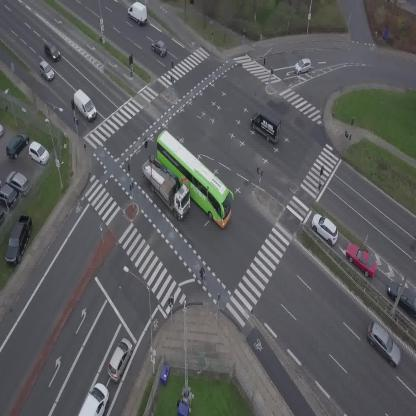bicycle: (195, 267, 211, 287)
bus: (143, 125, 245, 230)
car: (360, 320, 409, 370), (341, 238, 383, 282), (103, 336, 137, 384), (306, 209, 344, 247), (76, 381, 117, 416), (40, 40, 63, 64), (34, 59, 56, 84), (148, 36, 171, 58), (292, 57, 313, 75)
lorry: (134, 152, 201, 222), (245, 105, 288, 145), (69, 88, 100, 121)
